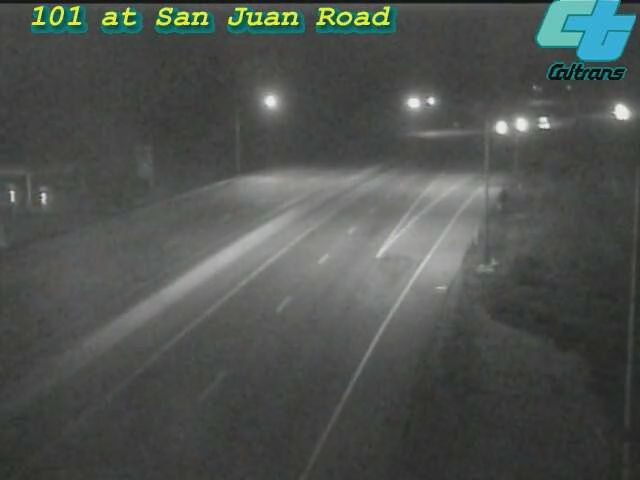vehicle: (518, 98, 568, 148), (477, 103, 527, 153), (496, 100, 546, 150), (592, 86, 640, 136), (601, 88, 640, 138)
